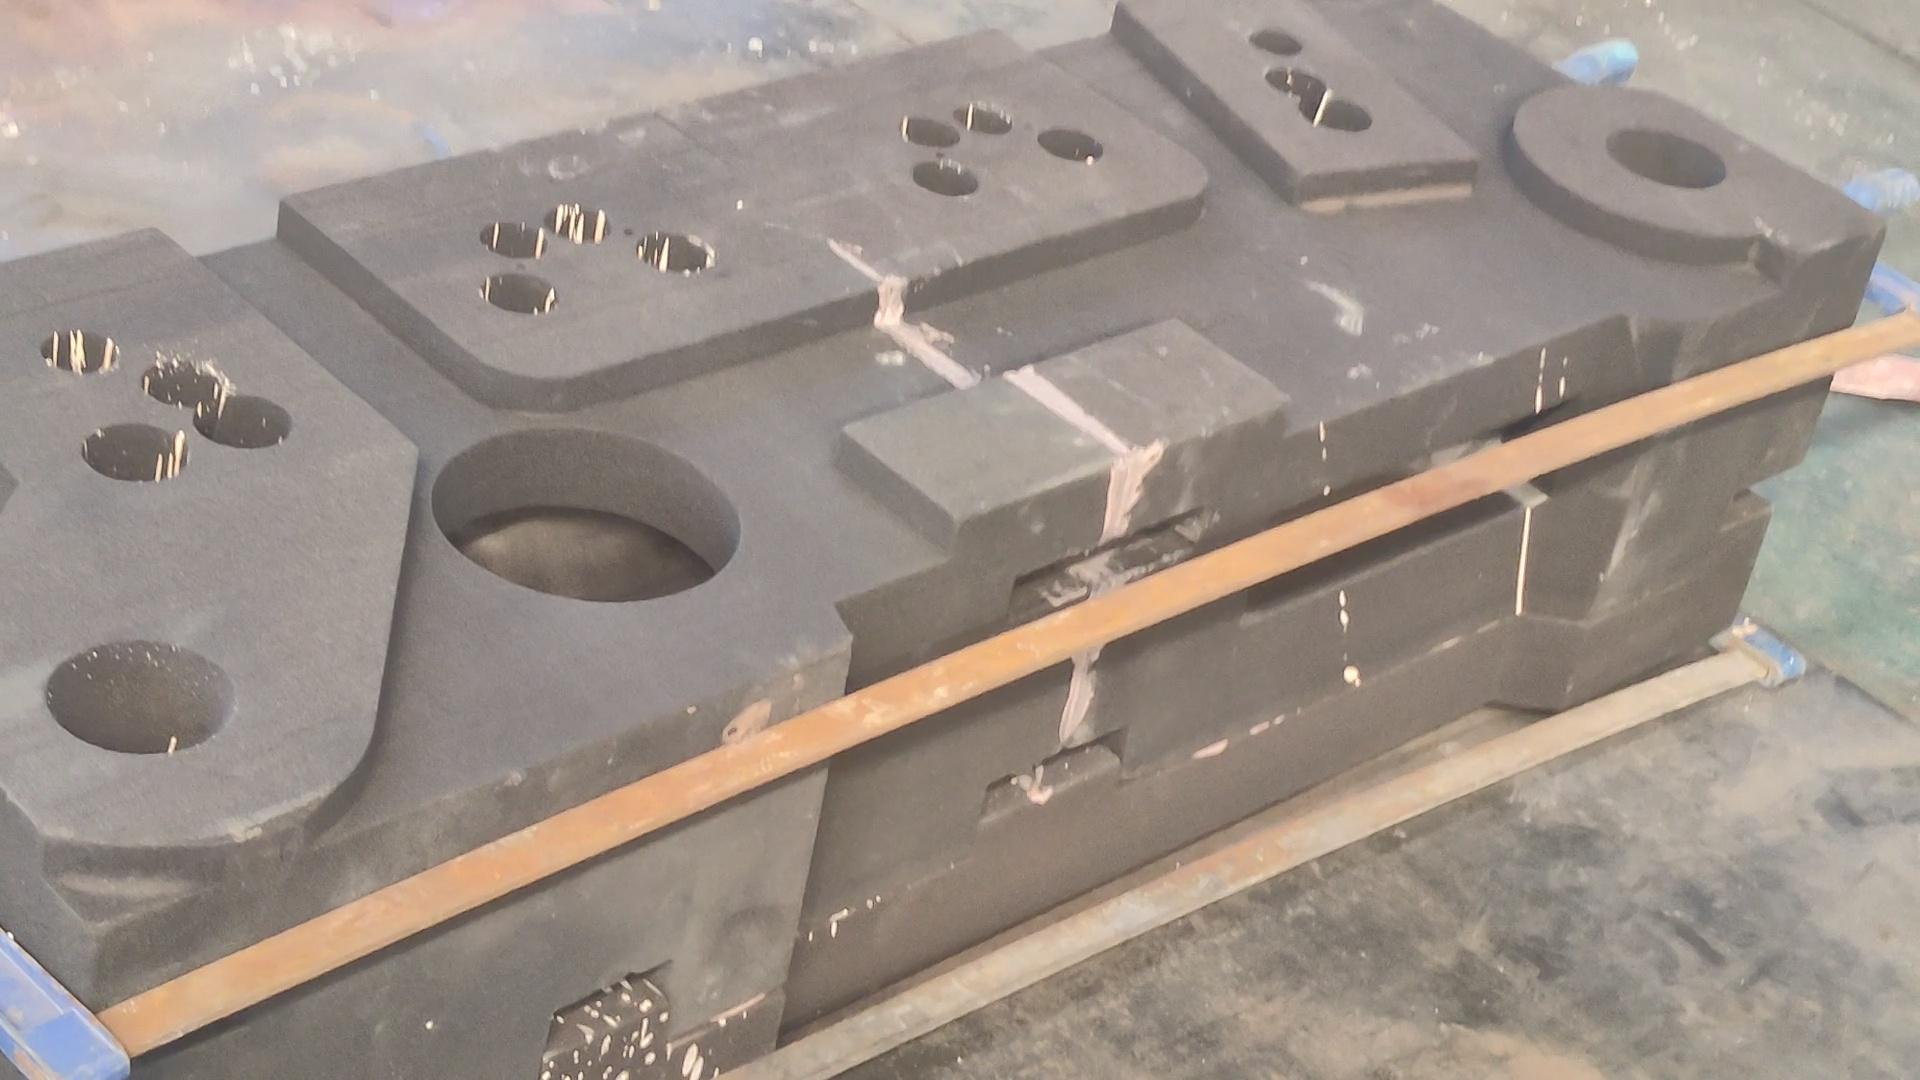pouring hole: (41, 636, 233, 756), (1604, 127, 1727, 189)
